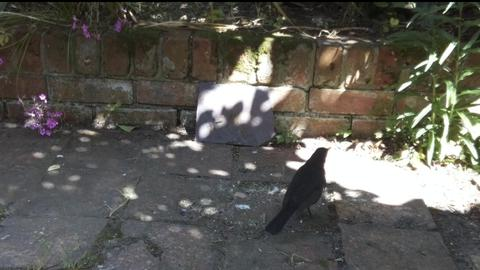blackbird: (264, 146, 332, 235)
